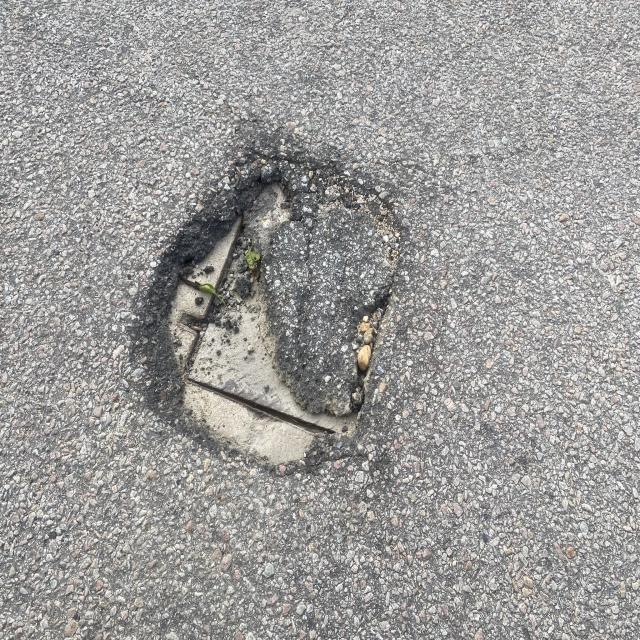pothole: (119, 114, 489, 548)
